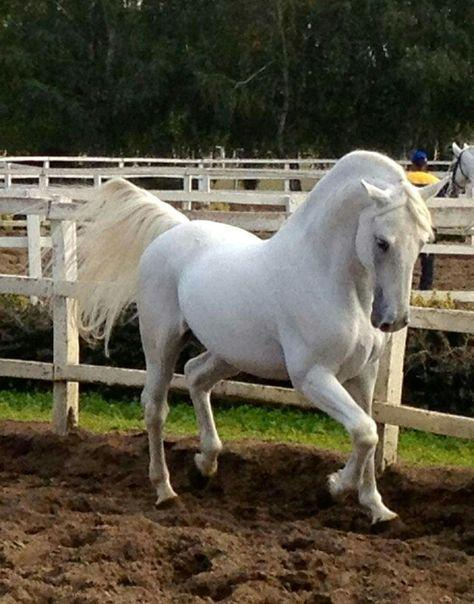horse: (65, 147, 450, 527)
